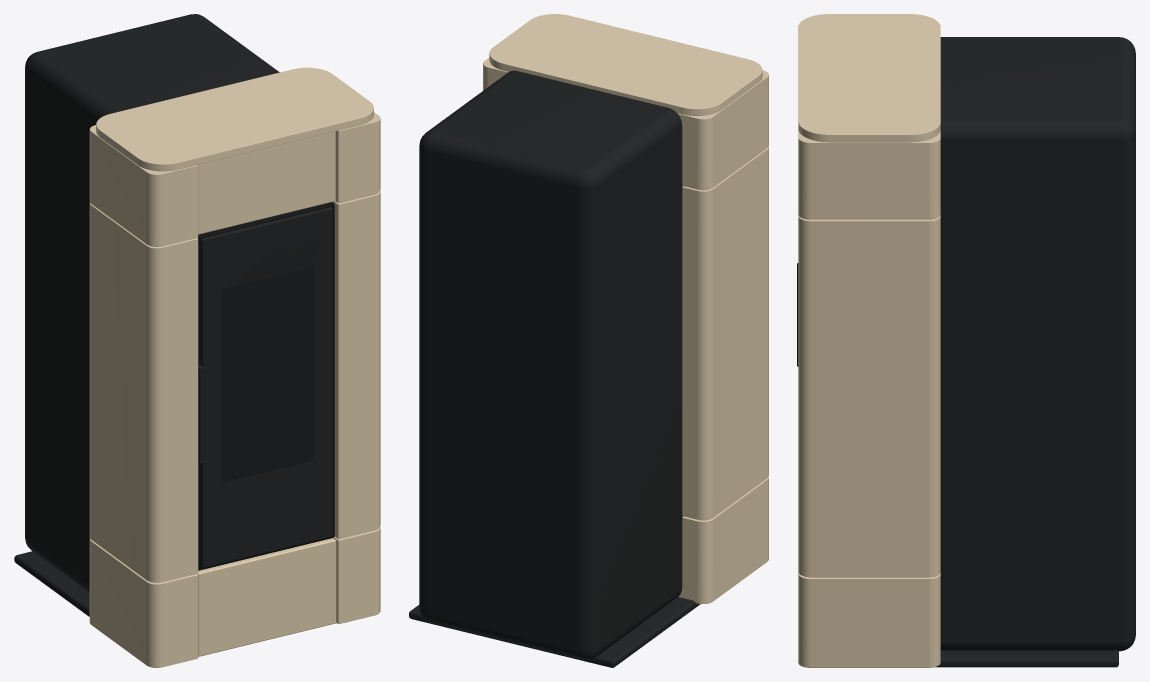
The model's file is nordica-isidora-idro-h20-50-evo-avorio.glb.
3 renders of one model, left to right at view 1: azimuth 30°, elevation 25°; view 2: azimuth 150°, elevation 25°; view 3: azimuth 270°, elevation 25°, orthographic. The views are drawn at different scales.
Parts seen in each view (by area): view 1: Corpo interno.002, Montante maiolica.007, Porta ghisa.002, Vetro sportello.002, Copertura superiore.002, Montante maiolica.010, Pannello inferiore.002, Maiolica superiore.002, Montante maiolica.006, Montante maiolica.008, Montante maiolica.009, Montante maiolica.011 (+3 smaller); view 2: Corpo interno.002, Montante maiolica.007, Copertura superiore.002, Montante maiolica.006, Montante maiolica.008, Zoccolo.002; view 3: Corpo interno.002, Montante maiolica.010, Copertura superiore.002, Montante maiolica.009, Montante maiolica.011, Zoccolo.002.
Boxes of the visible parts, left/top/right/bottom form: Corpo interno.002: left=25, top=14, right=279, bottom=592; Montante maiolica.007: left=89, top=202, right=198, bottom=582; Porta ghisa.002: left=201, top=207, right=332, bottom=568; Vetro sportello.002: left=221, top=267, right=312, bottom=482; Copertura superiore.002: left=96, top=67, right=373, bottom=171; Montante maiolica.010: left=332, top=191, right=380, bottom=538; Pannello inferiore.002: left=197, top=538, right=336, bottom=656; Maiolica superiore.002: left=198, top=131, right=335, bottom=234; Montante maiolica.006: left=89, top=538, right=198, bottom=667; Montante maiolica.008: left=89, top=125, right=198, bottom=246; Montante maiolica.009: left=333, top=527, right=380, bottom=623; Montante maiolica.011: left=335, top=112, right=380, bottom=202; Corpo interno.002: left=419, top=70, right=682, bottom=660; Montante maiolica.007: left=682, top=146, right=768, bottom=520; Copertura superiore.002: left=489, top=14, right=762, bottom=115; Montante maiolica.006: left=678, top=477, right=768, bottom=603; Montante maiolica.008: left=677, top=70, right=768, bottom=190; Zoccolo.002: left=409, top=597, right=700, bottom=667; Corpo interno.002: left=940, top=37, right=1135, bottom=651; Montante maiolica.010: left=798, top=215, right=940, bottom=577; Copertura superiore.002: left=798, top=14, right=940, bottom=142; Montante maiolica.009: left=798, top=573, right=940, bottom=667; Montante maiolica.011: left=798, top=130, right=940, bottom=219; Zoccolo.002: left=935, top=650, right=1118, bottom=667.
Size of the model in its own units: 0.596 by 1.24 by 0.707.
